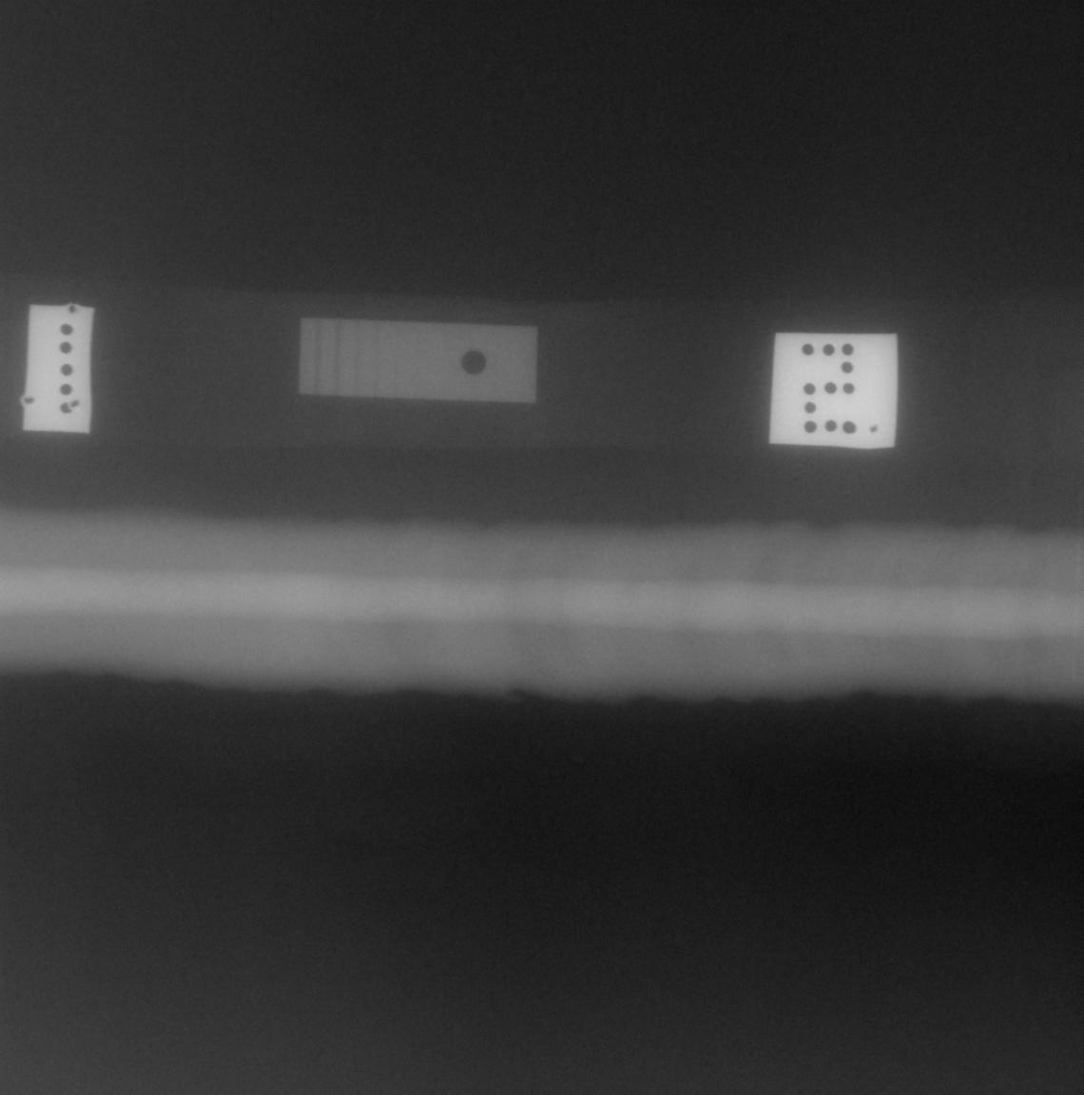Reference Standard 1: (298, 317, 537, 404)
